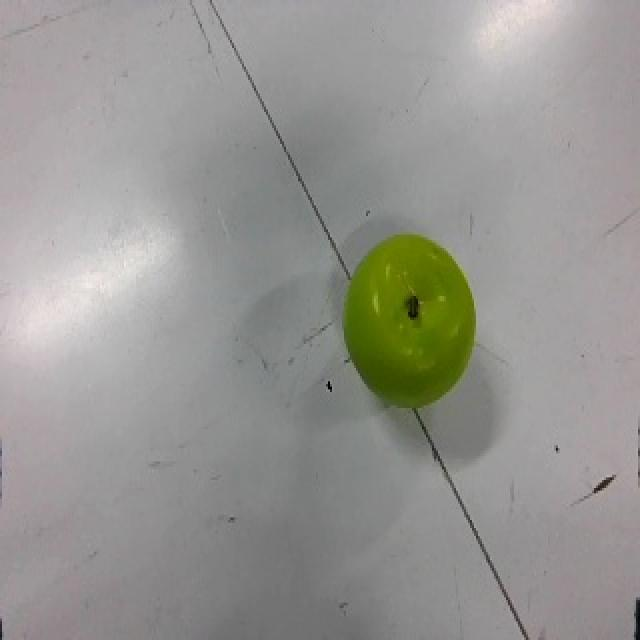apple: (343, 232, 476, 406)
